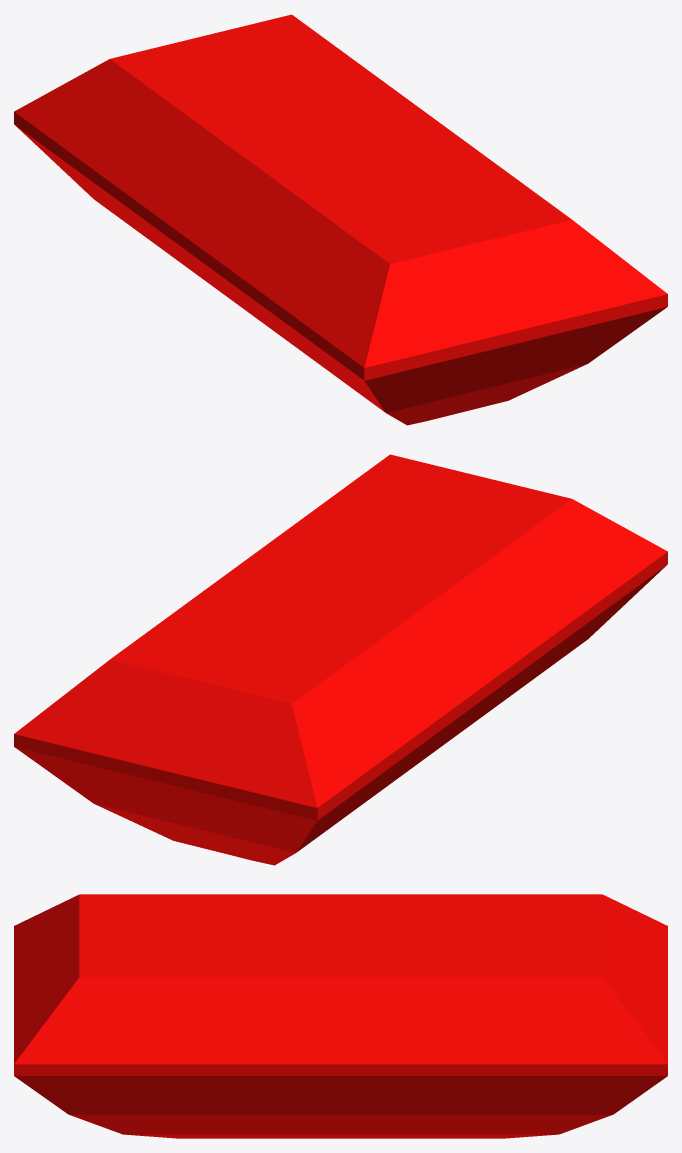
File: Jewel04.fbx
The picture shows the model from 3 angles, top to bottom: view 1: azimuth 30°, elevation 25°; view 2: azimuth 150°, elevation 25°; view 3: azimuth 270°, elevation 25°; orthographic projection. The views are drawn at different scales.
Parts seen in each view (by area): view 1: Baguette.001; view 2: Baguette.001; view 3: Baguette.001.
Boxes of the visible parts, bbox=[...] form: Baguette.001: bbox=[14, 14, 667, 425]; Baguette.001: bbox=[14, 454, 667, 865]; Baguette.001: bbox=[14, 894, 667, 1138].
Size of the model in its own units: 0.05 by 0.0342 by 0.1.
